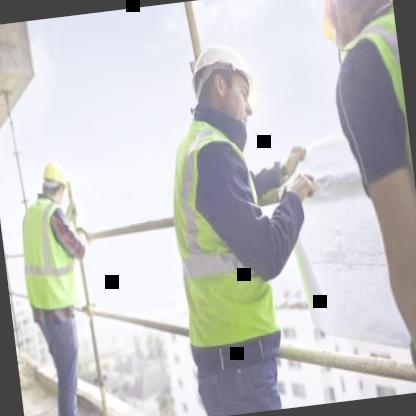helmet: (180, 30, 270, 136), (309, 0, 398, 64), (36, 156, 74, 212)
